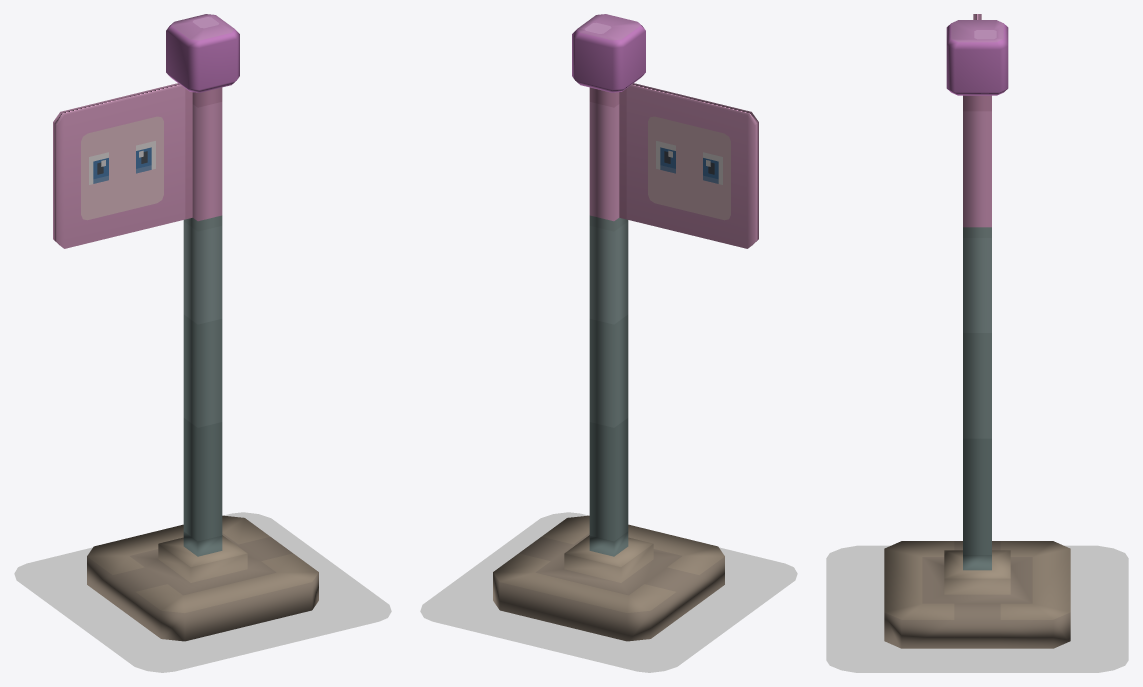
Rendered from G_makeover_S_flag_3.fbx.
3 renders of one model, left to right at view 1: azimuth 30°, elevation 25°; view 2: azimuth 150°, elevation 25°; view 3: azimuth 270°, elevation 25°, orthographic. The views are drawn at different scales.
Parts seen in each view (by area): view 1: pole, flag, ground; view 2: pole, flag, ground; view 3: pole, ground.
Boxes of the visible parts, x1,y1,x2,y2 form: pole: (87,14,318,641); flag: (53,83,192,248); ground: (14,512,391,672); pole: (493,14,724,641); flag: (619,83,758,248); ground: (420,512,797,672); pole: (884,20,1070,648); ground: (826,545,1128,672).
Bounding box in the file's own units: 3.49 × 6.88 × 3.24.
